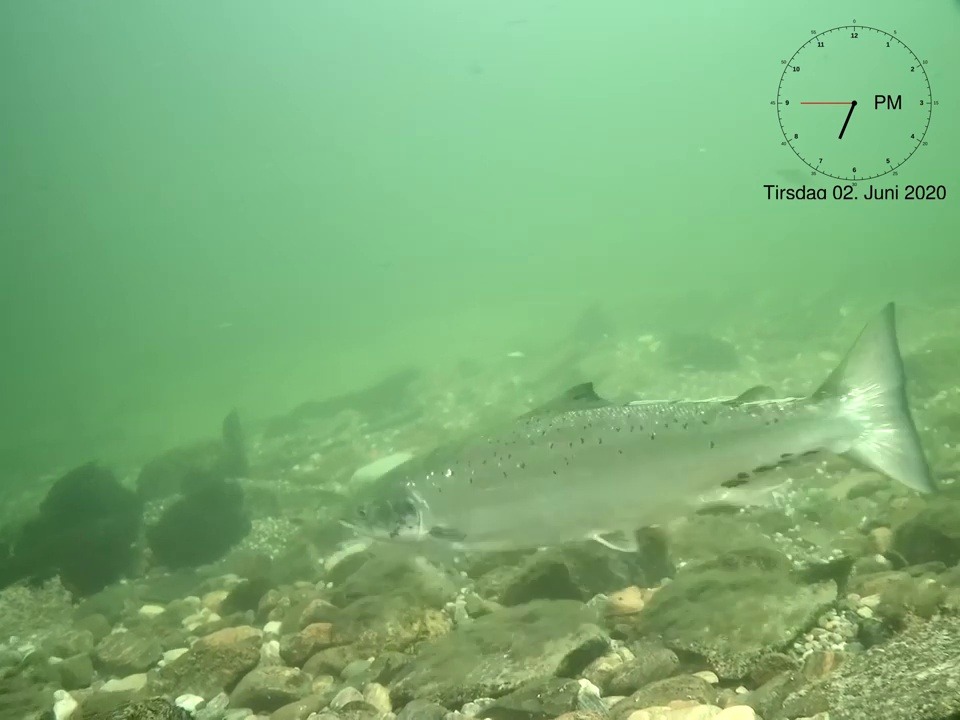salmon: (332, 298, 938, 556)
